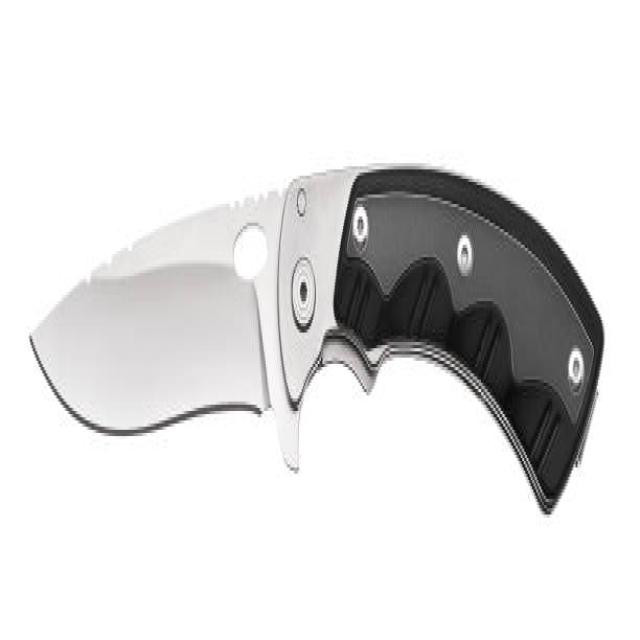knife: (22, 152, 609, 532)
